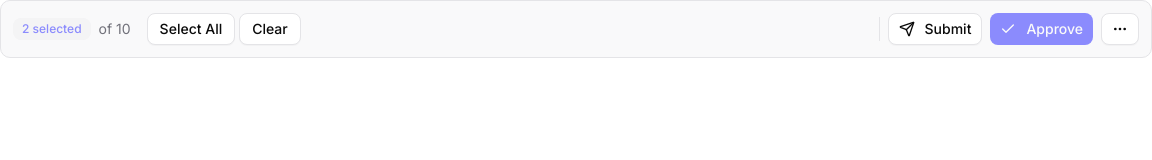
Test: BulkActionToolbar › Dropdown Menu › should open dropdown menu for secondary actions
Note: Find and click the more actions button (has MoreHorizontal icon)
Click the 5th button at coordinates (1120, 29), box [1101,13,1139,45]
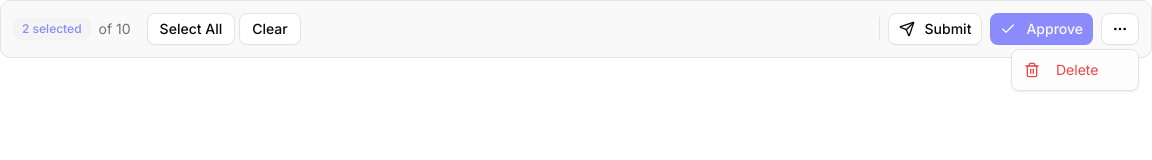
Check: the menu item "Delete" is shown, box [1024,61,1098,78]
